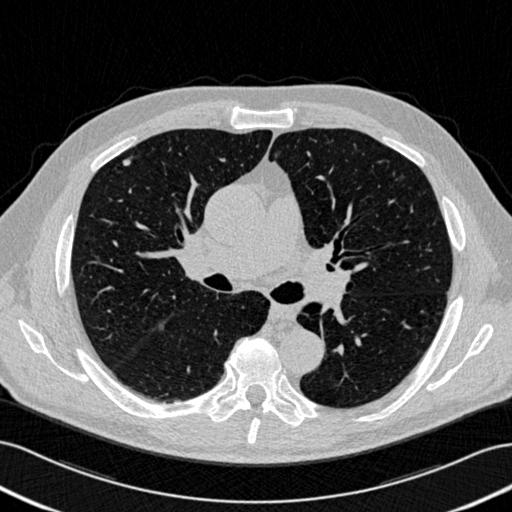nodule: (121, 157, 132, 168)
